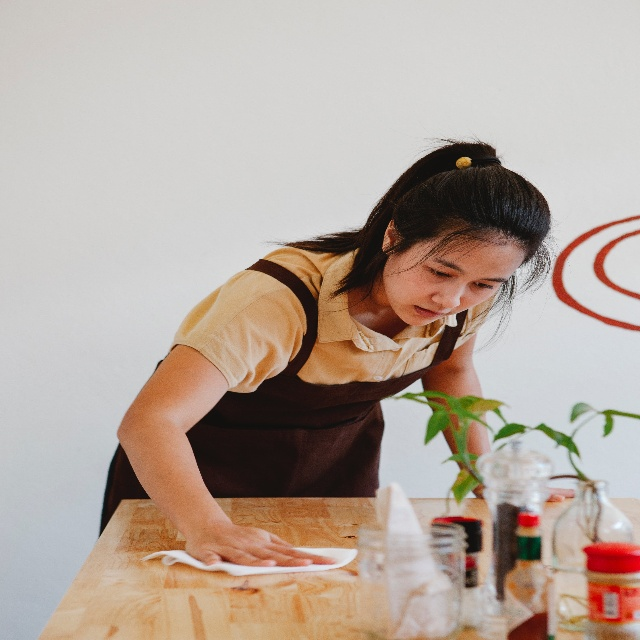Sin_guantes: (183, 511, 337, 570)
